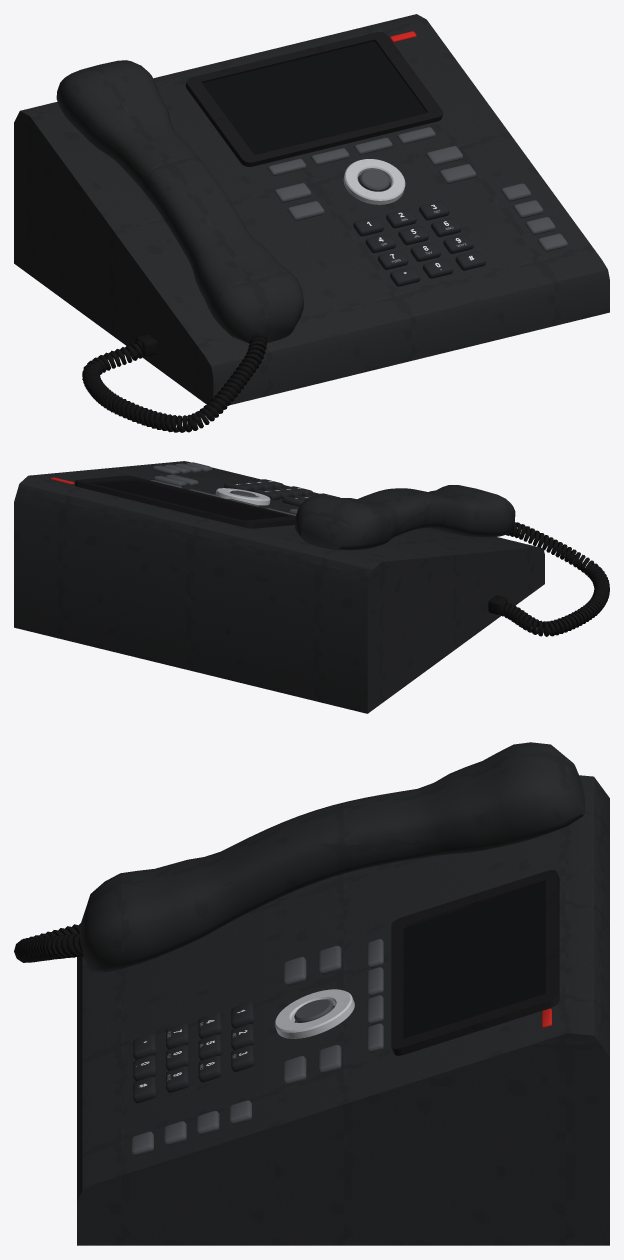
Rendered from ip-desk-phone-with-corded-handset-and-display.glb.
The picture shows the model from 3 angles, top to bottom: view 1: azimuth 30°, elevation 25°; view 2: azimuth 150°, elevation 25°; view 3: azimuth 270°, elevation 25°; orthographic projection. The views are drawn at different scales.
Visible parts, largest first — view 1: Body, Handset, Display, Display bezel, Feature keys, Dial pad, Coiled cord, Navigation ring, OK key; view 2: Body, Handset, Coiled cord, Display bezel, Display, Dial pad, Feature keys, Navigation ring; view 3: Body, Handset, Display, Display bezel, Feature keys, Dial pad, Navigation ring, Coiled cord.
Boxes of the visible parts, x1,y1,x2,y2 form: Body: (14,14,609,404); Handset: (56,60,303,343); Display: (202,41,426,154); Display bezel: (185,32,442,166); Feature keys: (268,127,567,251); Dial pad: (353,201,485,286); Coiled cord: (82,332,267,432); Navigation ring: (343,159,405,204); OK key: (359,169,389,191); Body: (14,461,544,713); Handset: (295,485,515,550); Coiled cord: (494,522,609,636); Display bezel: (74,475,295,528); Display: (95,480,284,520); Dial pad: (224,479,340,506); Feature keys: (150,462,297,515); Navigation ring: (215,488,270,505); Body: (77,775,609,1245); Handset: (80,742,584,972); Display: (403,883,545,1038); Display bezel: (391,870,559,1055); Feature keys: (131,939,383,1156); Dial pad: (133,1002,254,1103); Navigation ring: (274,989,354,1038); Coiled cord: (14,923,83,962).
Bounding box in the file's own units: 0.279 × 0.1125 × 0.2237.
8 materials, 8 textured.
